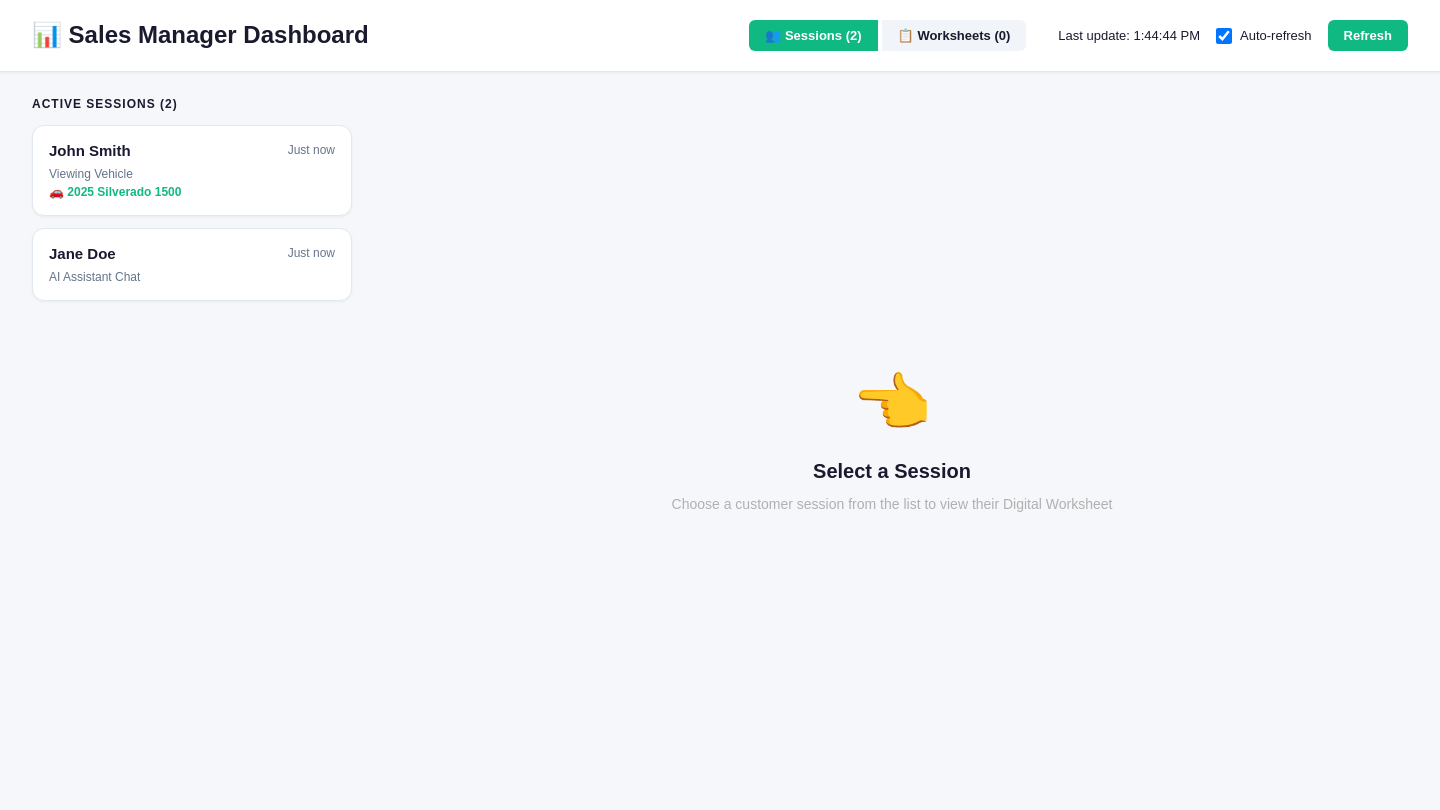
SalesManagerDashboard Component › Back Button › clicking Back clears selected session
Click the text "John Smith" at (90, 150), box [49,142,131,159]
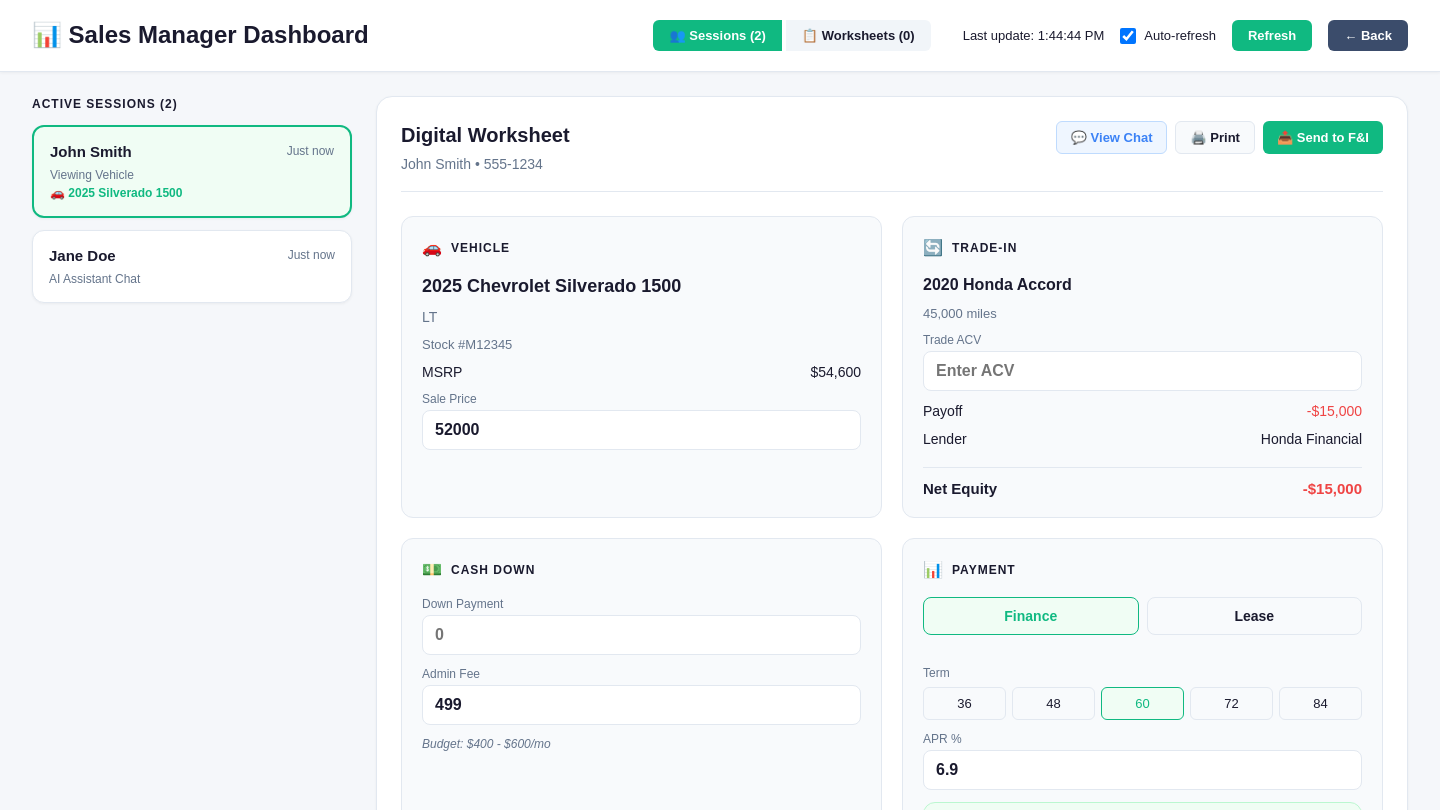
Expected: the heading "Digital Worksheet" is shown, [401,121,570,149]
Note: Click Back
Click the button "← Back" at (1368, 36), box [1328,20,1408,51]
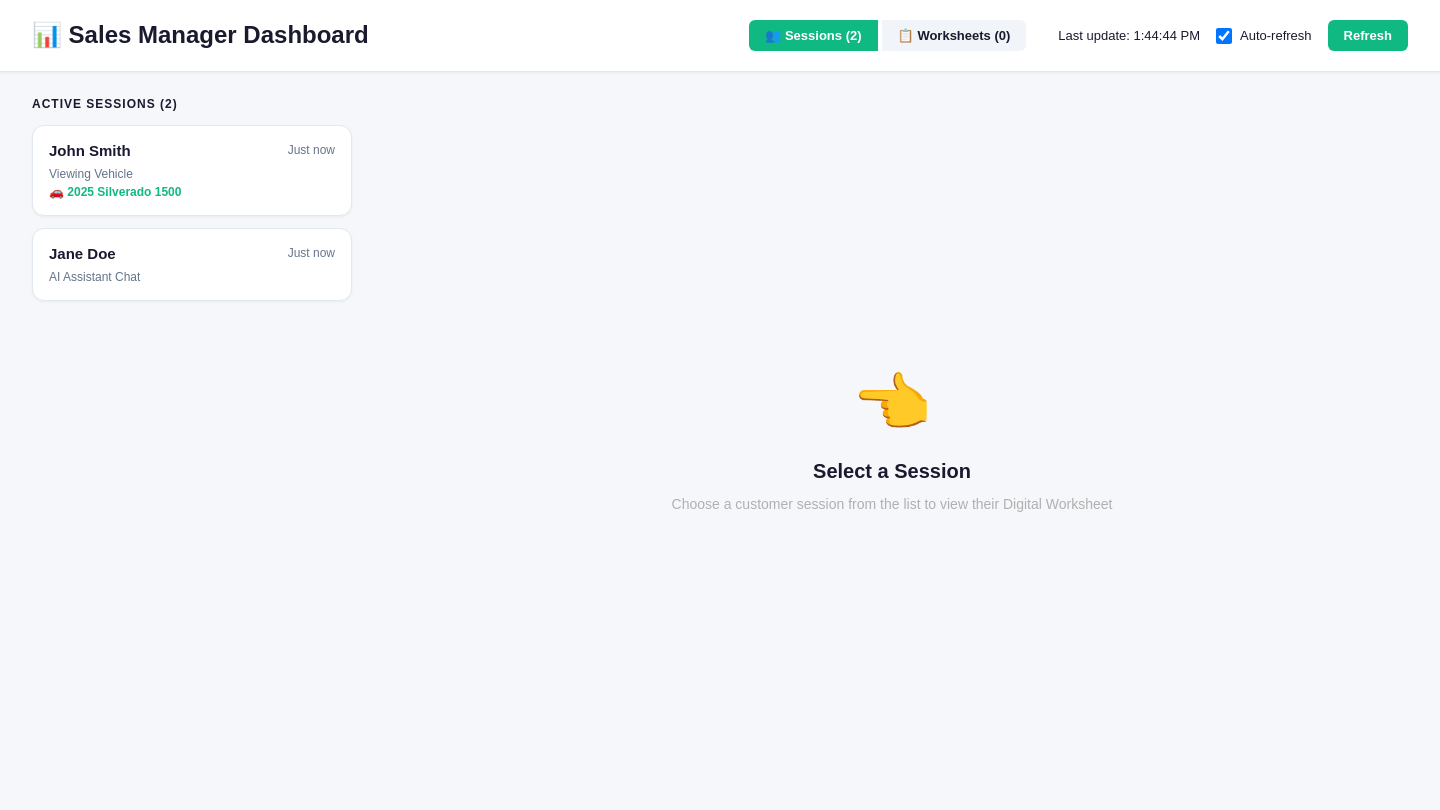
Expected: the heading "Select a Session" is shown, [813,457,971,485]
